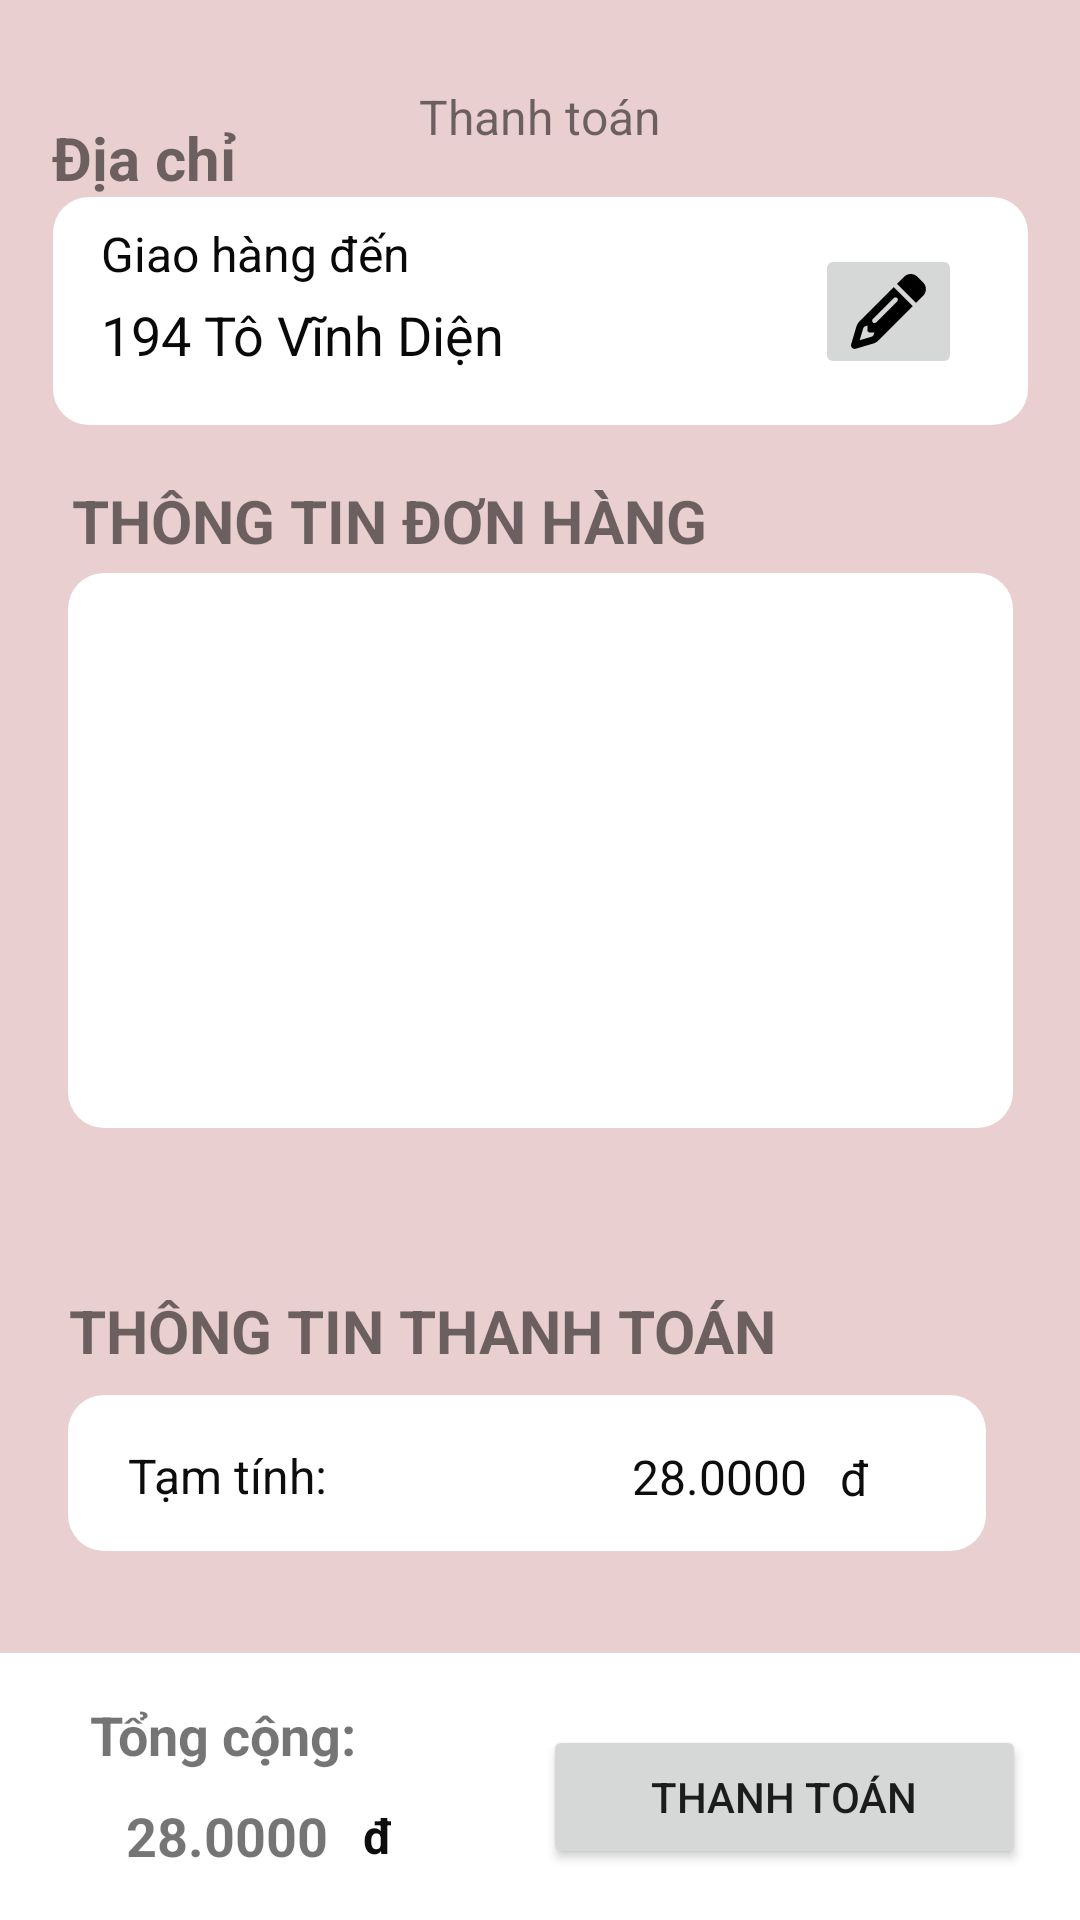

Where icons sit on this 1080w x 1920h app screen, as [x1, y1, x2, y2]:
pencil edit: [827, 262, 950, 361]
